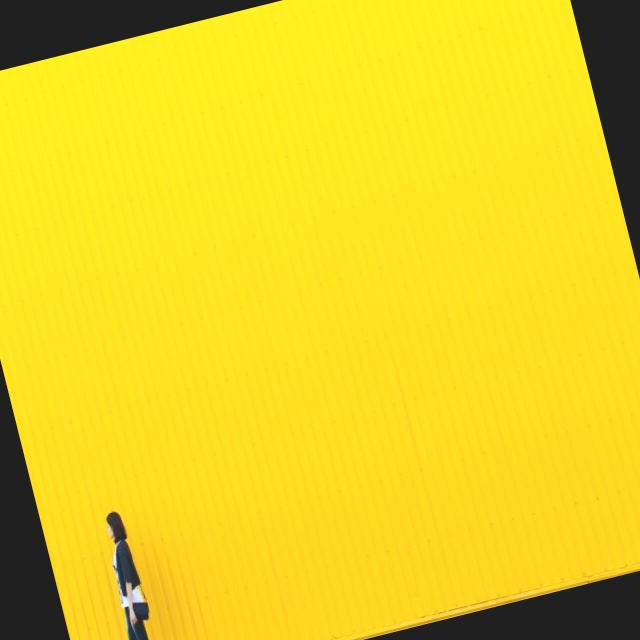person: (95, 503, 184, 640)
